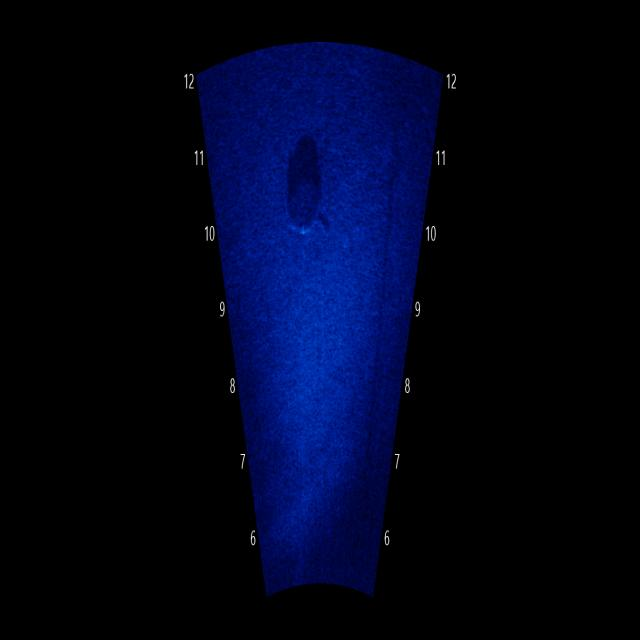circle: (276, 155, 334, 251)
